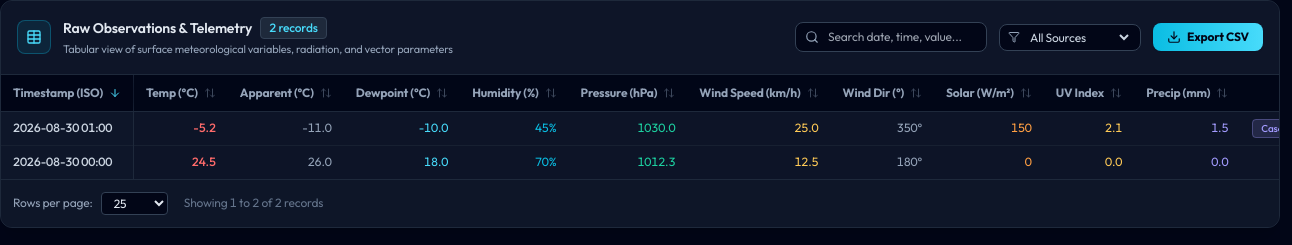
RawDataTable Component Suite › filters rows by quick search term
The width and height of the screenshot is (1292, 245).
In the field with placeholder "Search date, time, value...": (891, 37) [795,22,987,52], type "freeze"
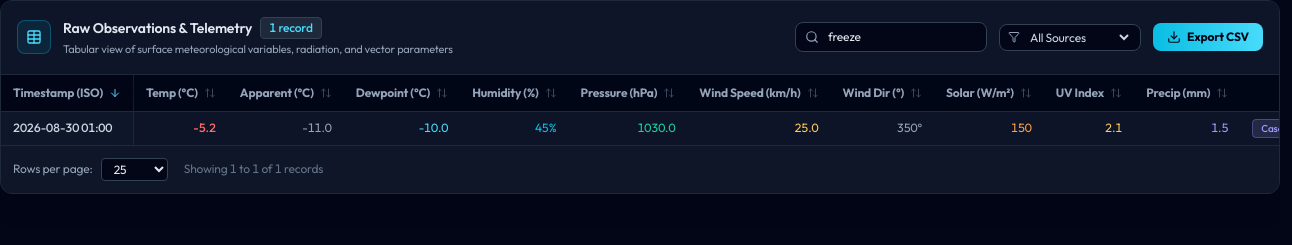
Expected: the text "2026-08-30 01:00" is shown, [1,111,134,144]
Result: the text with test id "record-count-badge" reads "1 record" at [260,17,322,39]
Result: the text "2026-08-30 00:00" is gone
